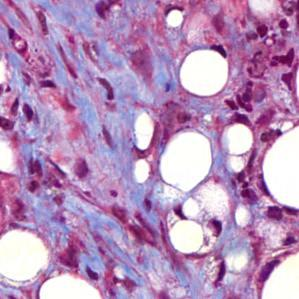steatosis: (157, 132, 216, 188), (177, 43, 236, 98), (167, 214, 209, 255)
